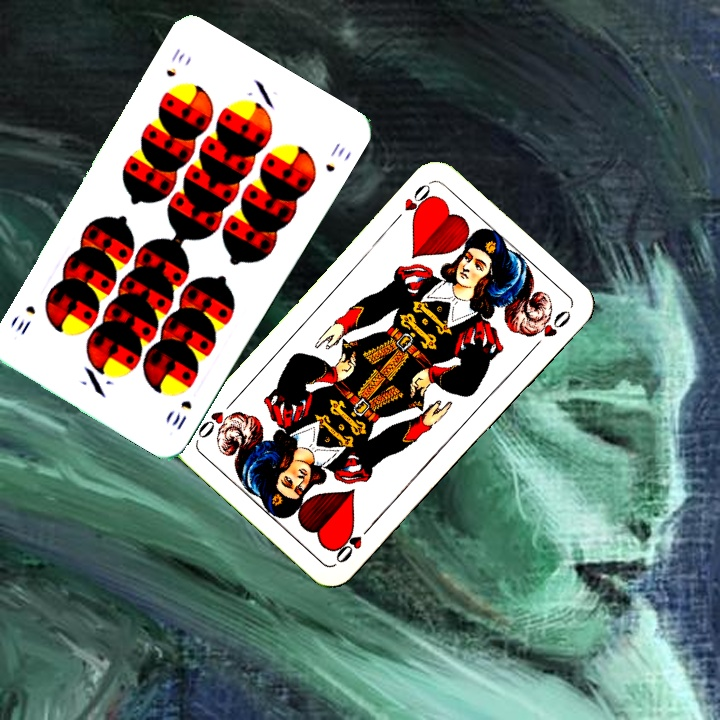HO: (388, 178, 438, 226), (331, 519, 377, 566)
S10: (167, 396, 195, 433), (162, 44, 188, 80)
